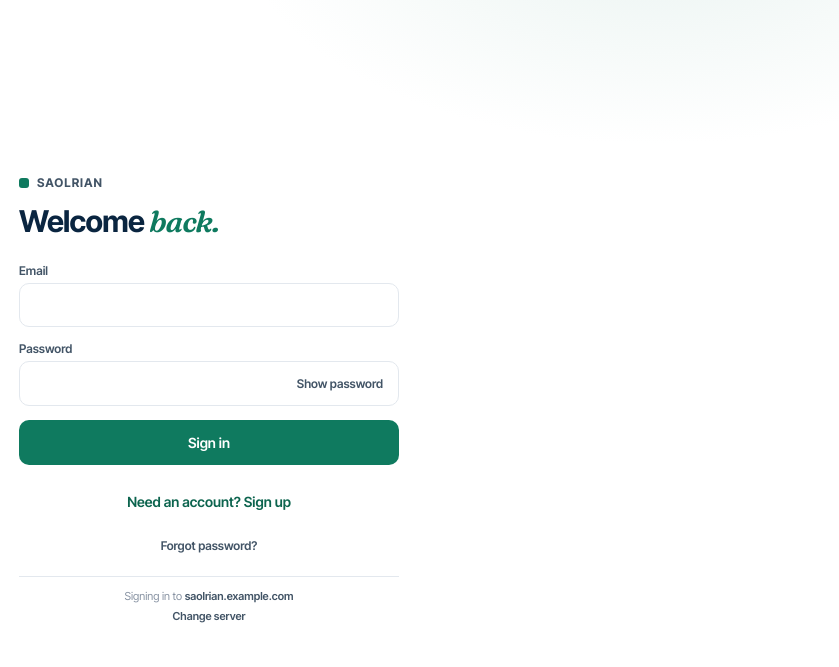
Scenario: Auth — password reset › confirms without disclosing whether the account exists
Type "nobody@example.com" into the field labelled "Email" at (209, 305), box [19, 283, 399, 327]
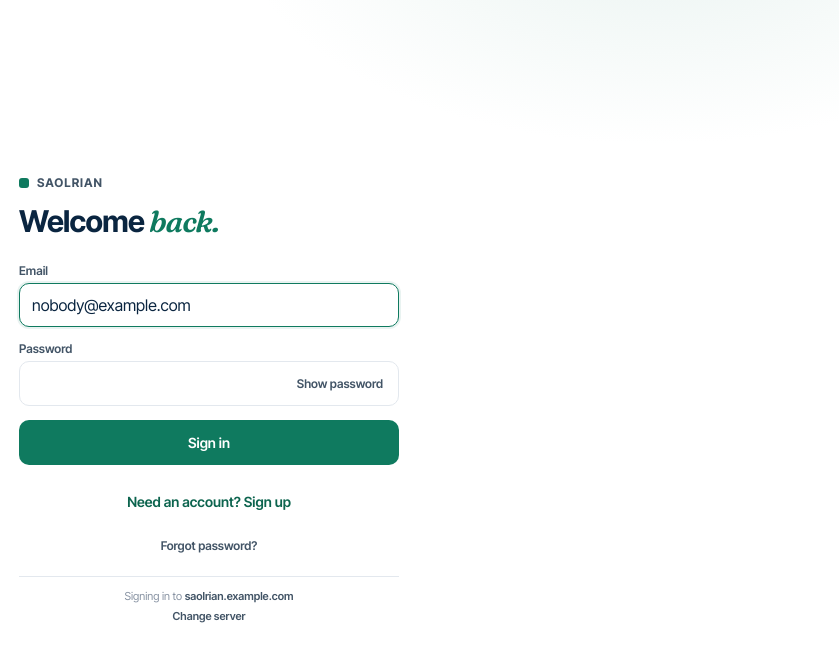
Click the button "Forgot password?" at (209, 546), box [19, 538, 399, 554]
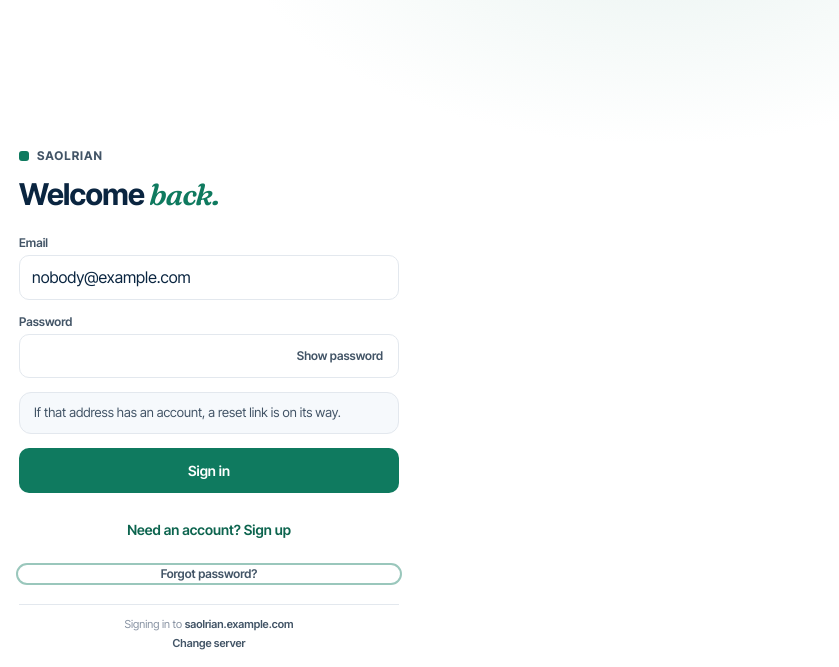
expect the text "If that address has an account, a reset link is on its way." is shown: met, box [19, 392, 399, 434]
